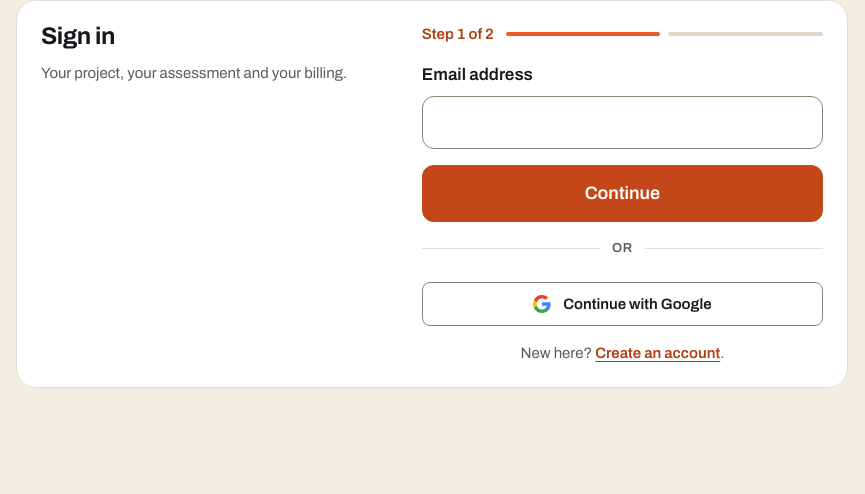
Test: the sign-in page › shows the server’s message when the credentials are wrong
In the field labelled "Email address": (622, 122) [422, 96, 823, 148], type "dana@cascadeheating.example"
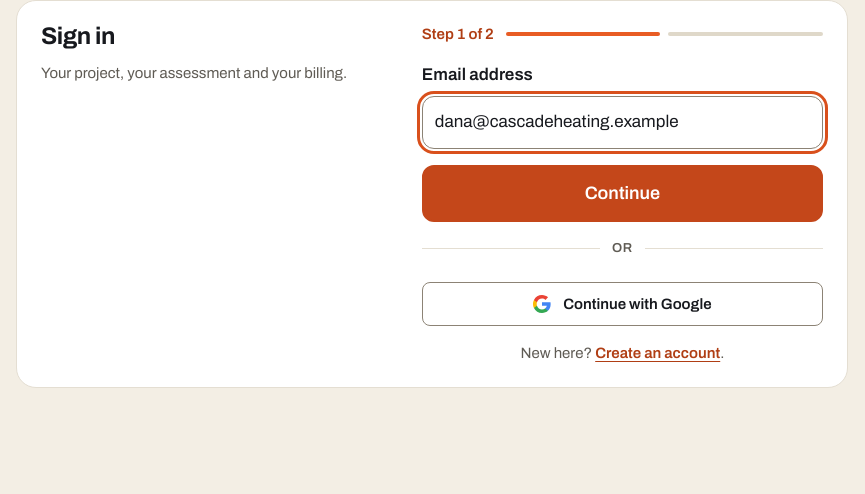
Click the button "Continue": click(622, 193) [422, 164, 823, 222]
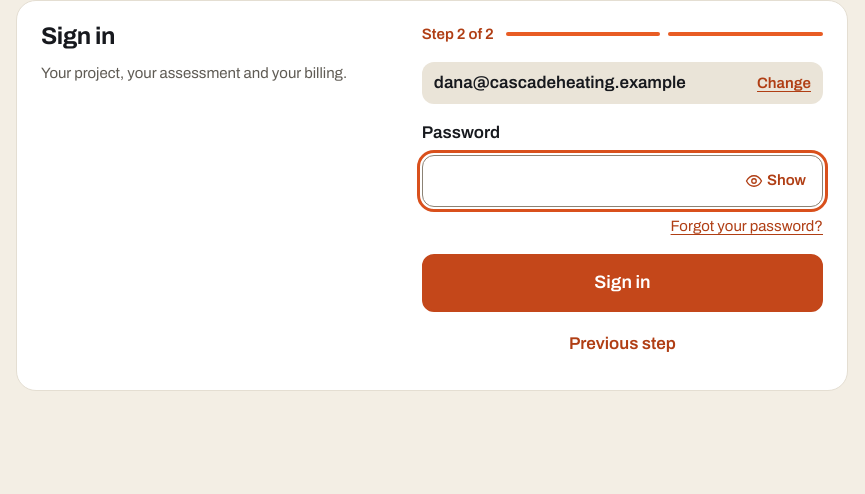
In the password field labelled "Password": (622, 181) [422, 154, 823, 207], type "wrong"
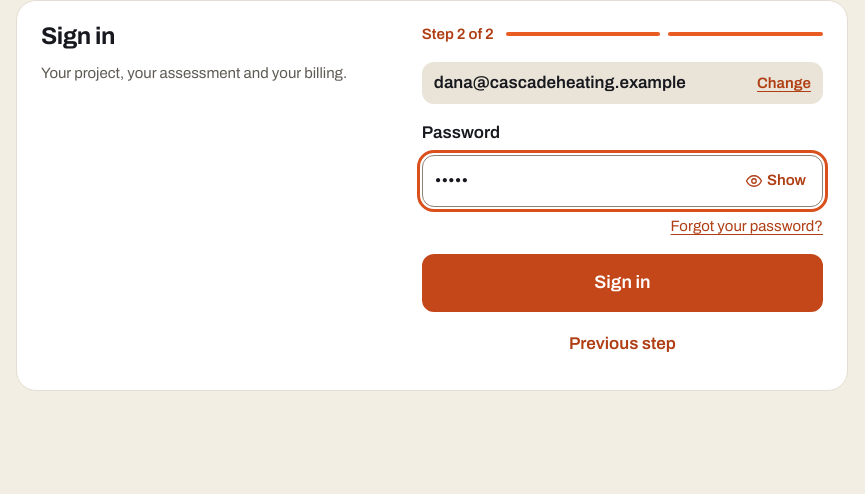
Click the button "Sign in": click(622, 283) [422, 254, 823, 312]
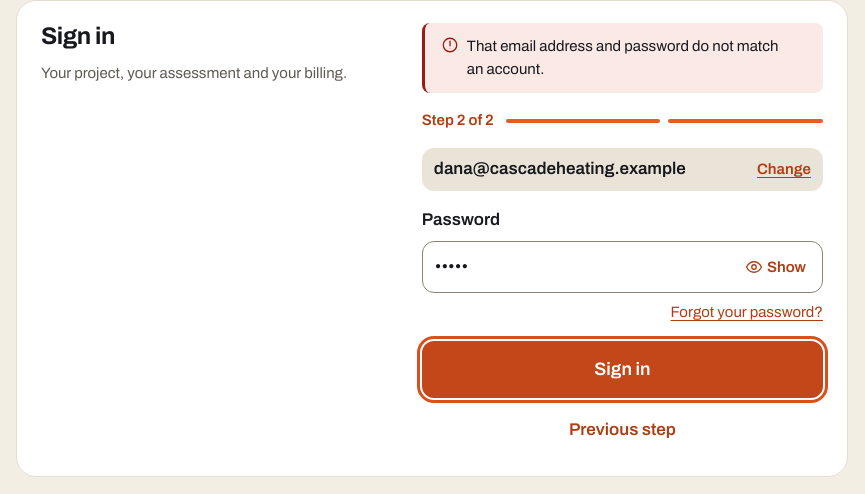
Expected: the message shows "do not match an account", [467, 38, 778, 77]
